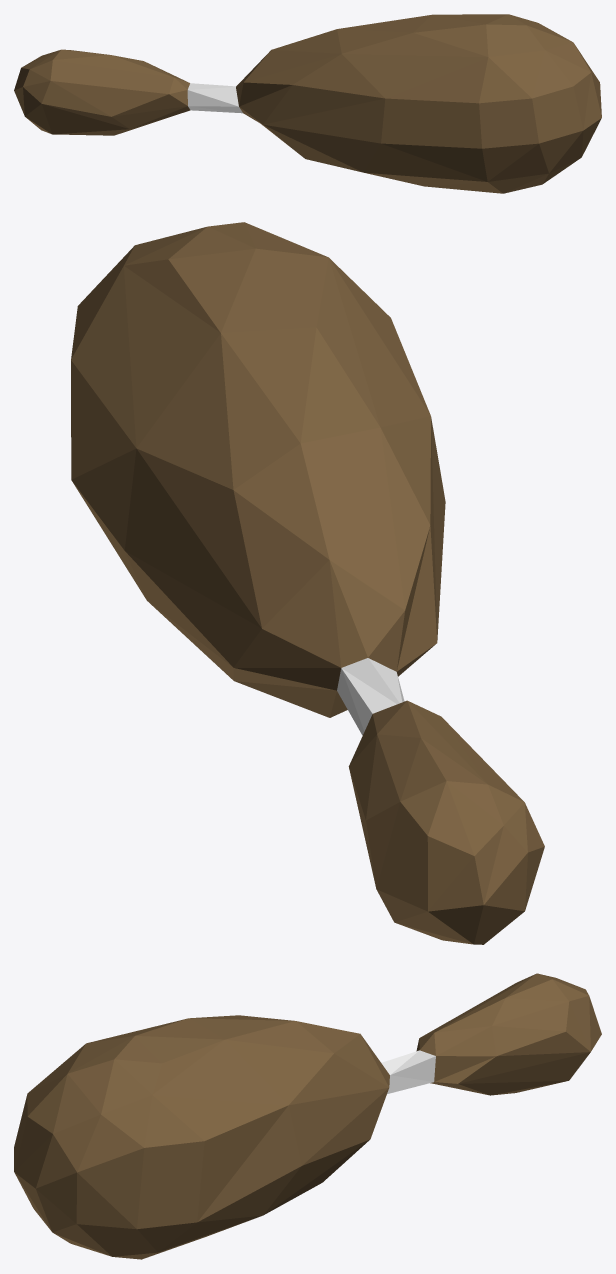
File: MeatBone(Pickup).fbx
3 renders of one model, top to bottom at view 1: azimuth 30°, elevation 25°; view 2: azimuth 150°, elevation 25°; view 3: azimuth 270°, elevation 25°, orthographic. The views are drawn at different scales.
Visible parts, largest first — view 1: MeatBone; view 2: MeatBone; view 3: MeatBone.
Part boxes in pixels (<box>): MeatBone: <box>14,14,601,193</box>; MeatBone: <box>71,222,544,944</box>; MeatBone: <box>14,973,601,1259</box>.
Size of the model in its own units: 43.78 by 17.49 by 45.04.
